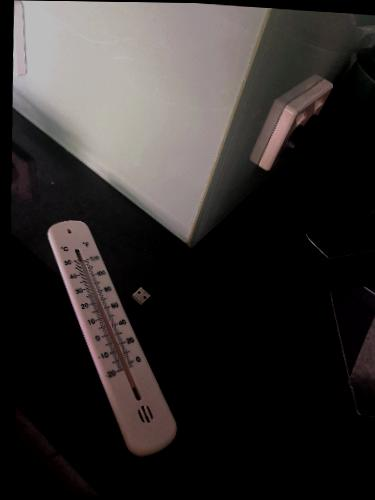thermo: (47, 209, 183, 458)
